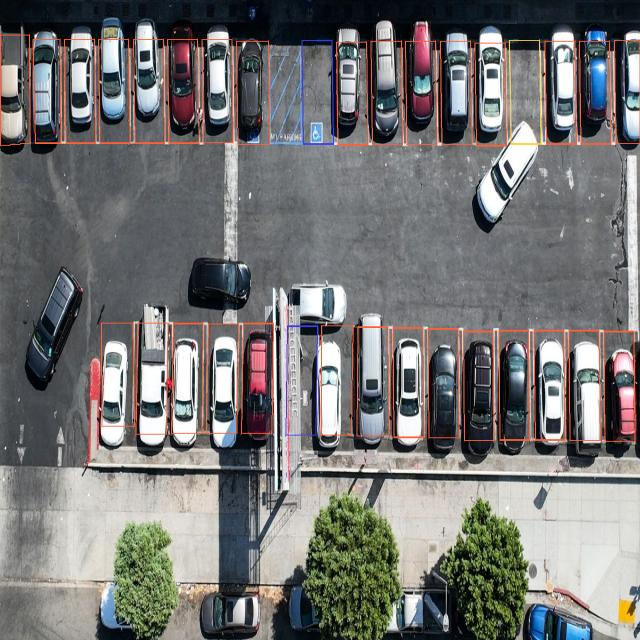space-empty: (508, 38, 544, 142), (290, 332, 318, 441), (304, 42, 334, 142)
space-occupied: (91, 320, 135, 451), (567, 331, 607, 454), (132, 321, 170, 449), (204, 324, 242, 444), (168, 322, 205, 445), (389, 327, 427, 444), (460, 330, 498, 447), (496, 330, 534, 444), (426, 329, 462, 446), (318, 328, 353, 446), (27, 32, 62, 143), (542, 38, 580, 140), (474, 34, 510, 141), (62, 34, 98, 140), (165, 40, 203, 140), (334, 37, 370, 142), (441, 36, 476, 142), (368, 40, 404, 143), (356, 329, 388, 444), (579, 36, 615, 138), (96, 36, 132, 138), (201, 38, 237, 139), (406, 37, 440, 143), (242, 325, 272, 441), (534, 328, 565, 439), (0, 28, 29, 145), (131, 38, 165, 137), (239, 38, 267, 146), (611, 338, 636, 447), (615, 34, 639, 141)
